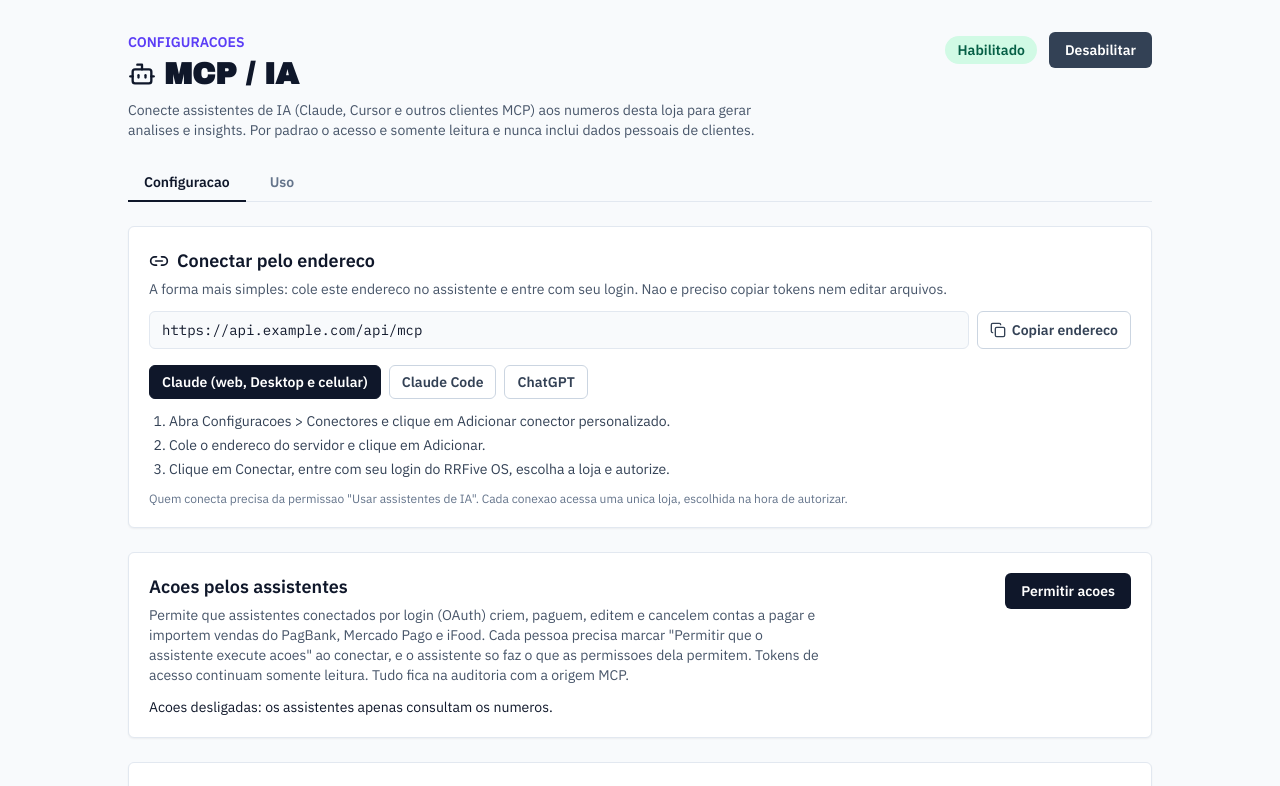
it: McpSettingsClient › shows the usage log with refusals and filters by result
The image size is (1280, 786).
Click the tab "Uso" at (282, 183), box [254,164,310,202]
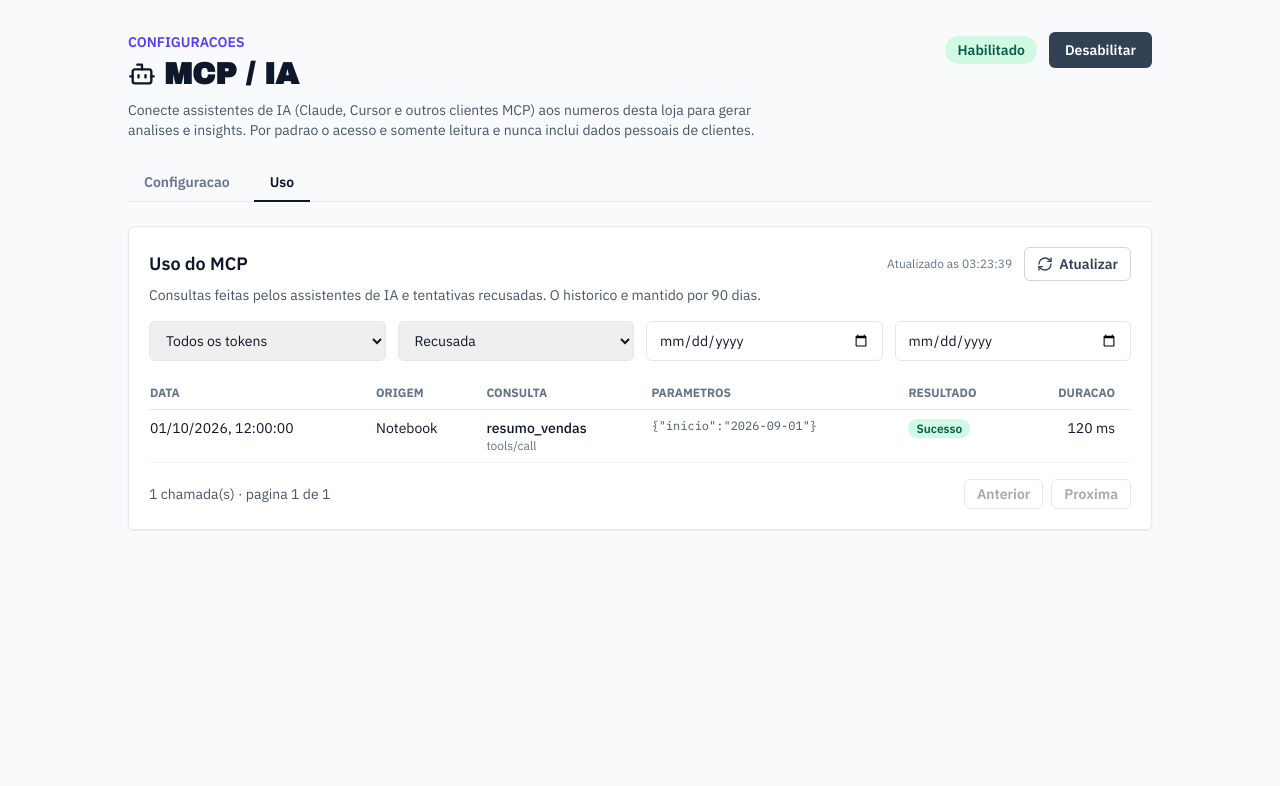
Expected: the text "Uso do MCP" is shown, [149,250,248,278]
Expected: the text "Sucesso" is shown, [908,419,970,438]
Expected: the text "1 chamada(s)" is shown, [149,484,330,504]
Select "Recusada" in the dropdown named "Filtrar por resultado" at (516, 341), box [398,321,634,361]
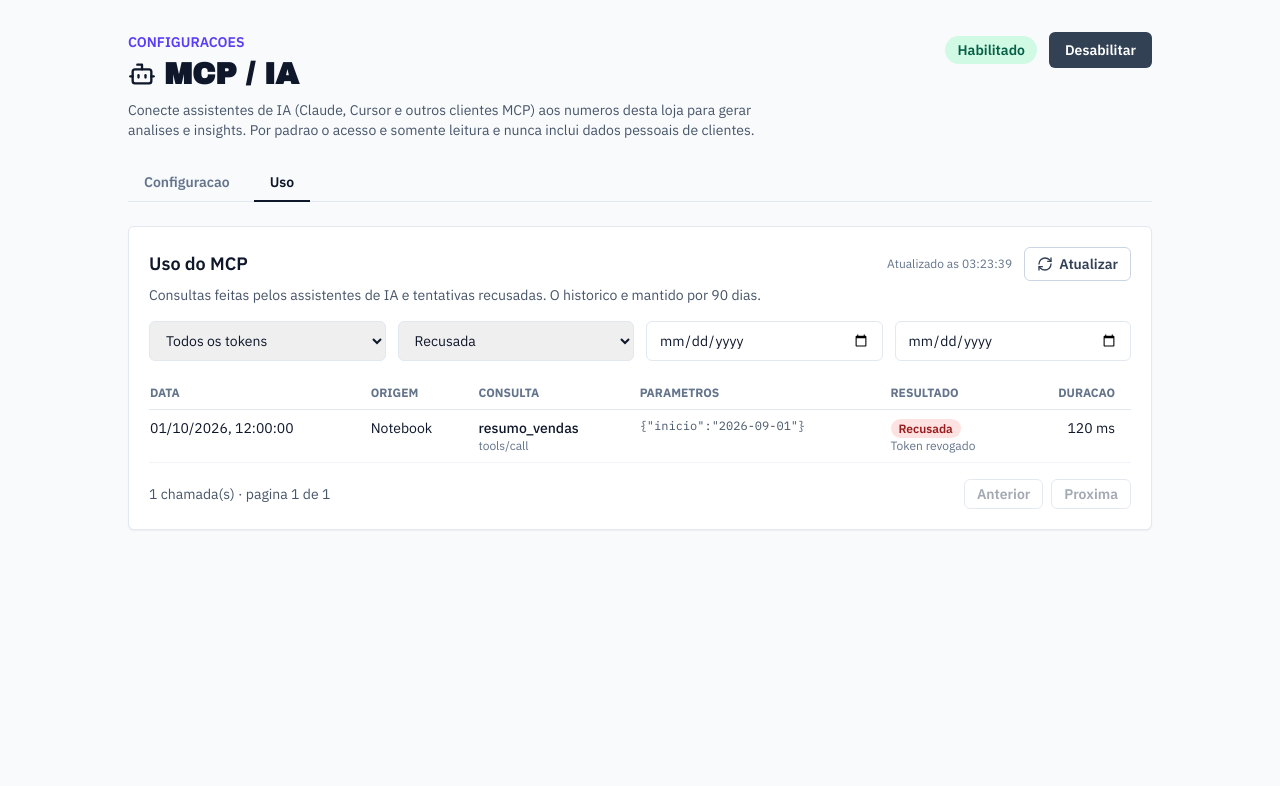
Expected: the text "recusada" is shown, [149,286,761,304]
Expected: the text "Token revogado" is shown, [890,438,975,453]
